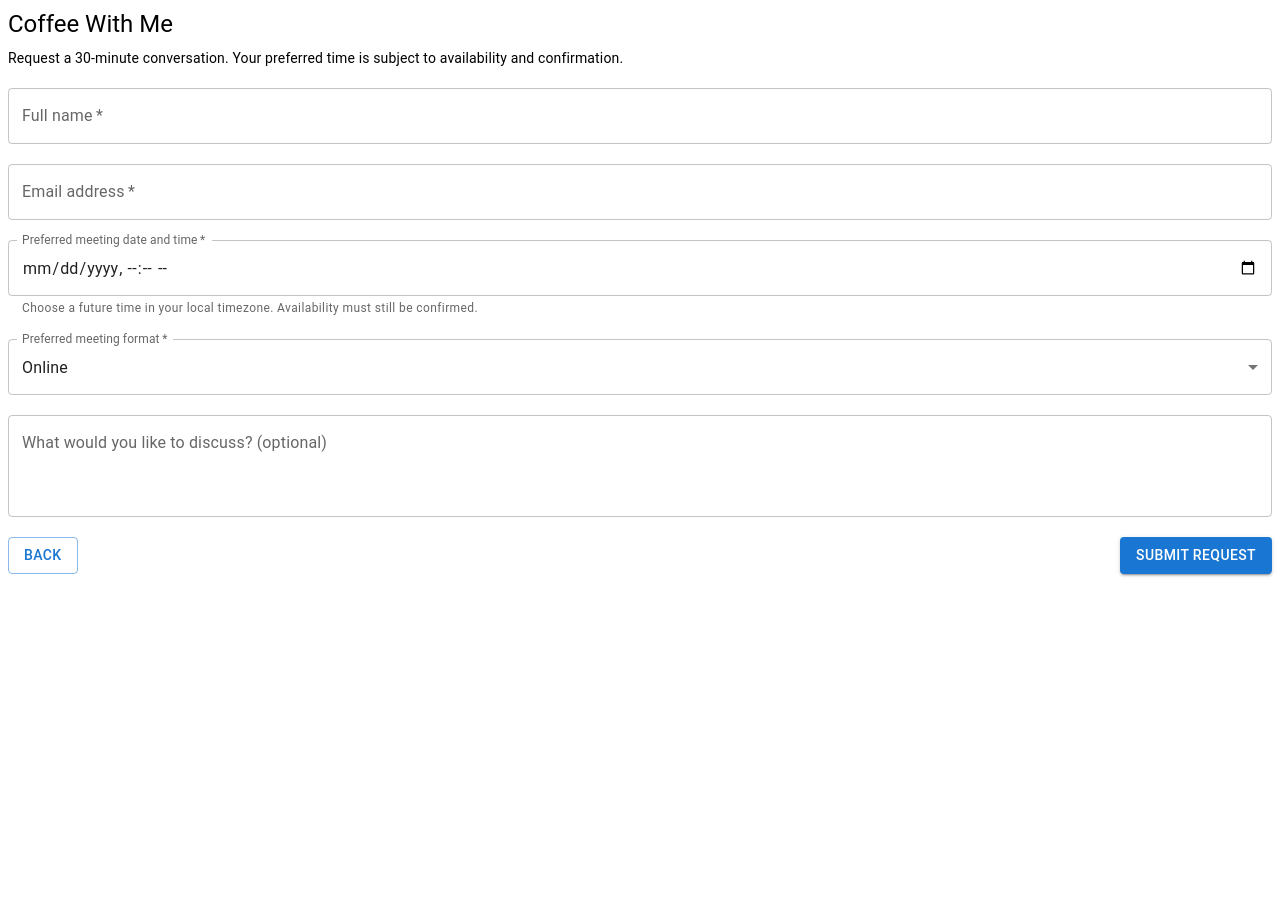
Test: CoffeeWithMeForm › requires a meeting date and time
The image size is (1280, 900).
Type "Test User" into the field labelled "Full name *" at (640, 116), box top-left (8, 88), bottom-right (1272, 144)
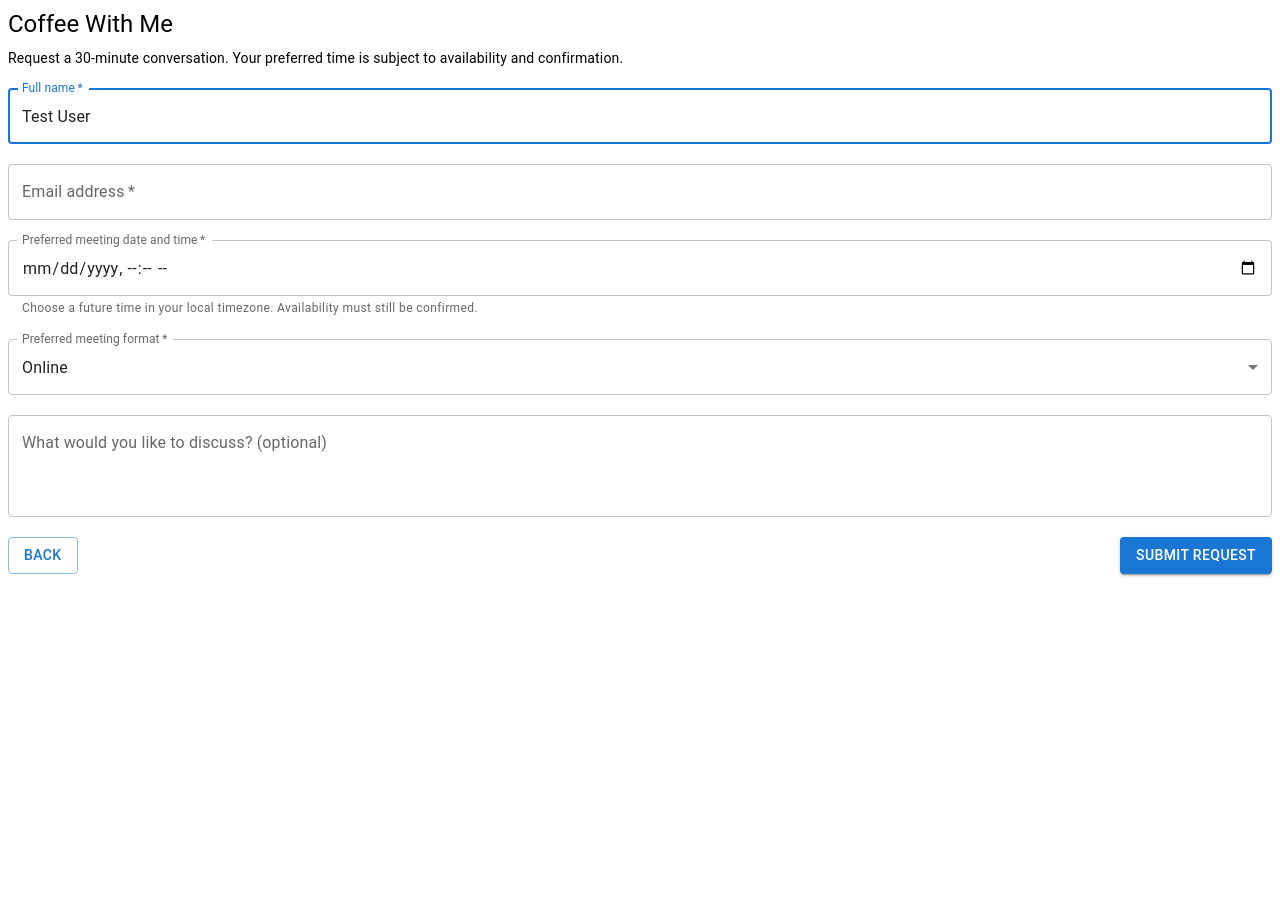
Type "test@example.com" into the field labelled "Email address *" at (640, 192), box top-left (8, 164), bottom-right (1272, 220)
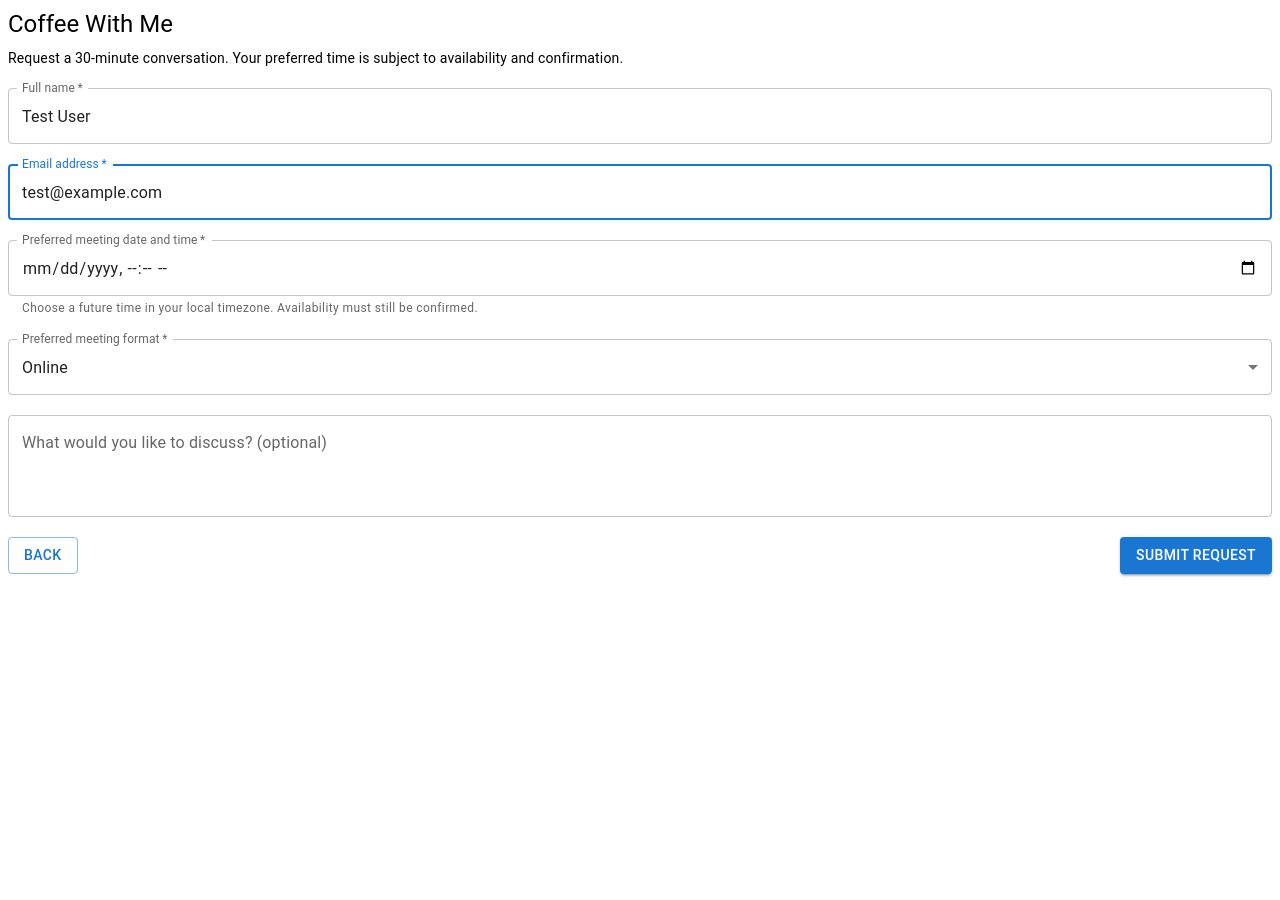
Click the button "Submit request" at (1196, 556), box top-left (1120, 537), bottom-right (1272, 574)
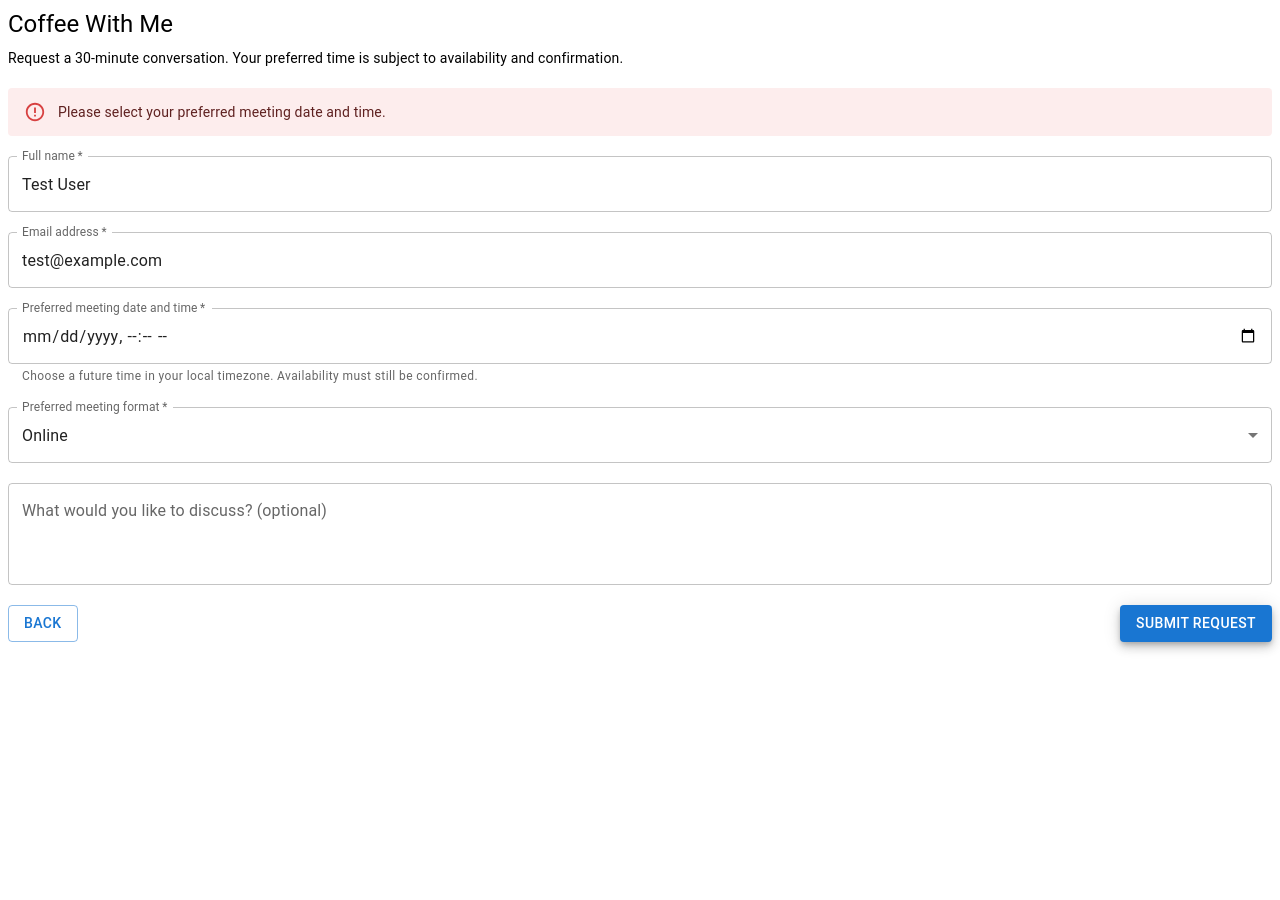
Expected: the message shows "select your preferred meeting date and time", top-left (58, 104), bottom-right (386, 120)
